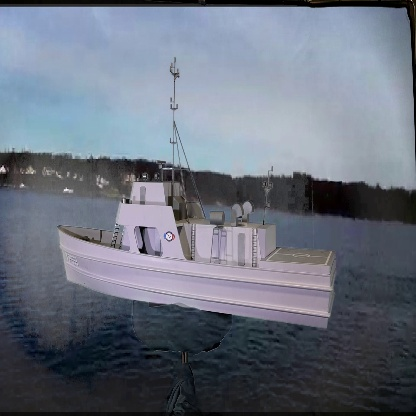YP689: (59, 56, 336, 331)
